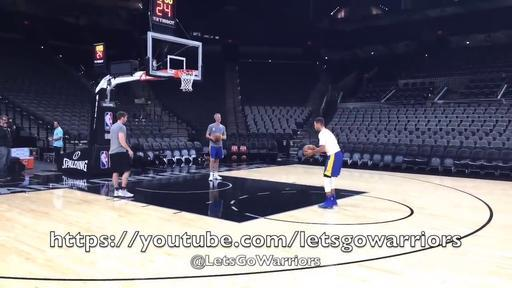ball: (304, 144, 316, 156), (212, 134, 222, 141)
human: (306, 117, 343, 208), (110, 112, 134, 198), (205, 113, 227, 181), (48, 120, 63, 170)
rim: (177, 70, 195, 90)
